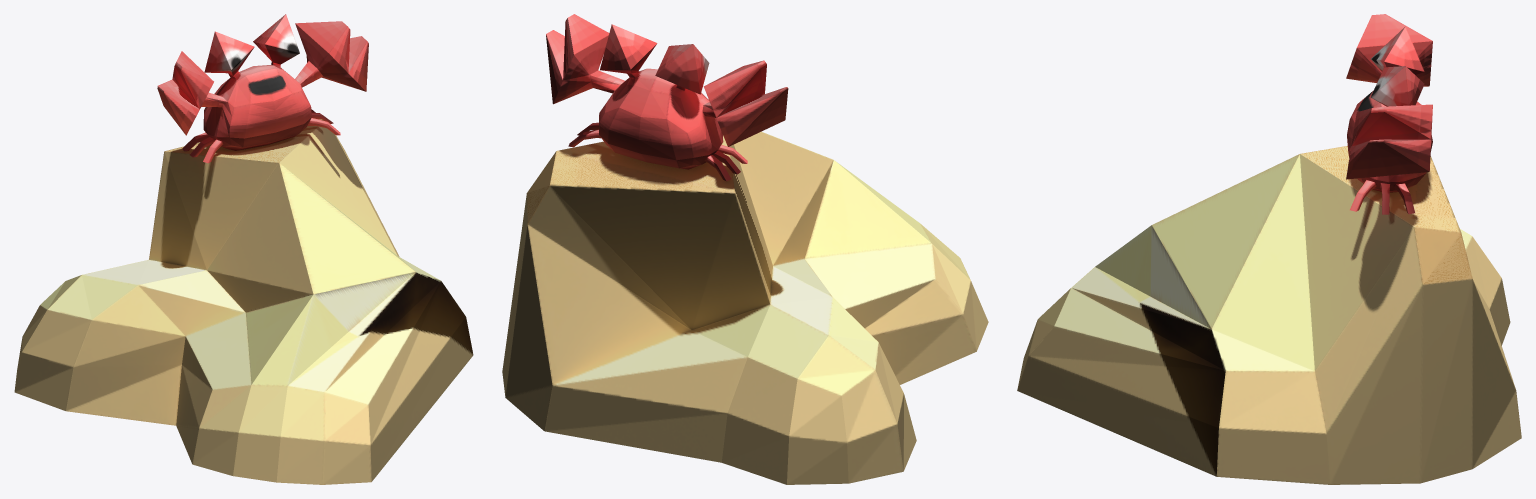
The model's file is CrabIsland.glb.
3 views of the same model, side by side, from view 1: azimuth 30°, elevation 25°; view 2: azimuth 150°, elevation 25°; view 3: azimuth 270°, elevation 25° (orthographic). The views are drawn at different scales.
Parts seen in each view (by area): view 1: baked; view 2: baked; view 3: baked.
Part boxes in pixels (x1,y1,x2,y2): baked: [14, 14, 473, 484]; baked: [502, 14, 988, 484]; baked: [1017, 14, 1521, 484].
Bounding box in the file's own units: 7.17 × 6.09 × 7.42.
Materials: 2 (2 with a texture image).
